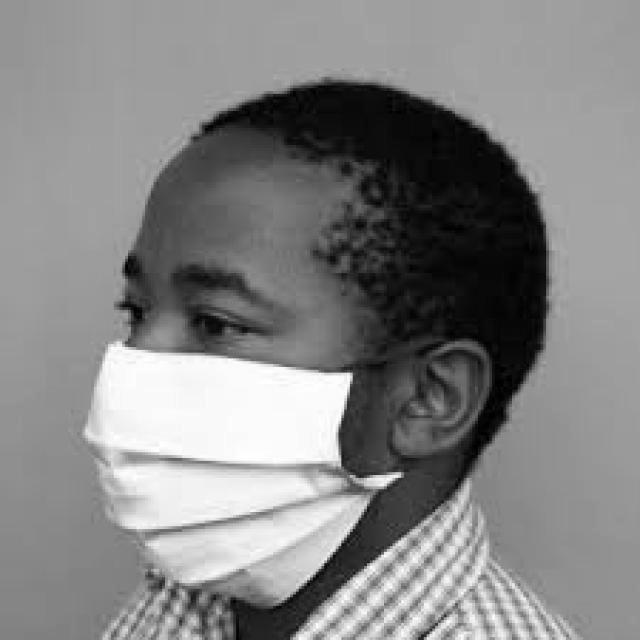fake: (72, 346, 415, 614)
real: (116, 133, 384, 612)
